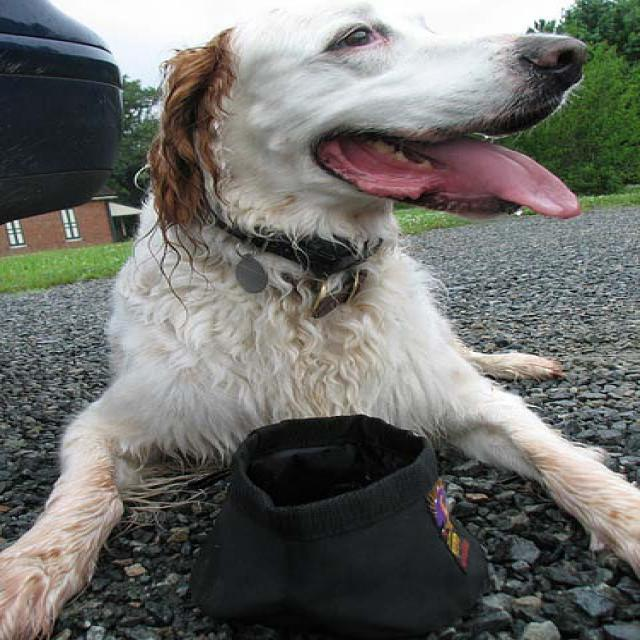dog-english_setter: (2, 1, 637, 637)
